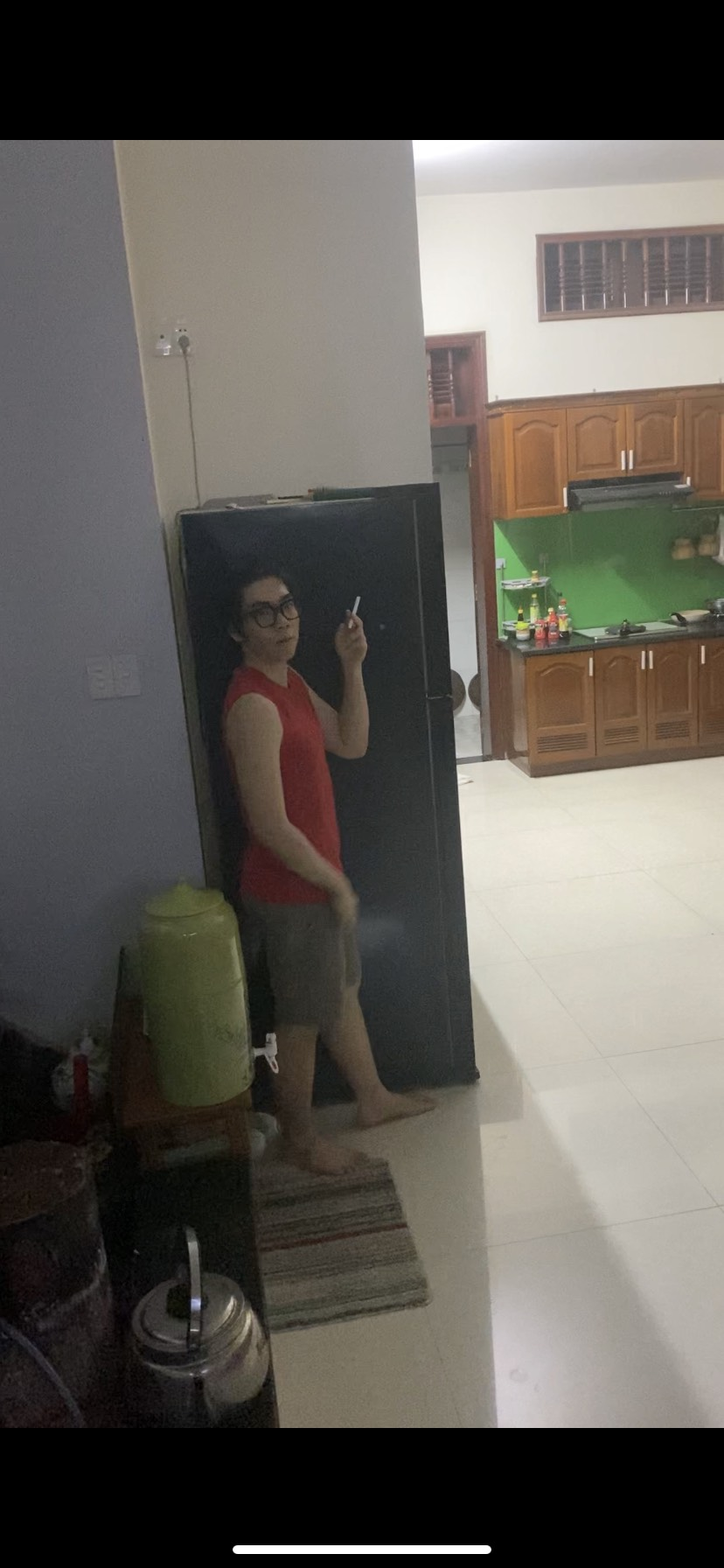cigarette: (351, 592, 365, 615)
person: (218, 528, 431, 1143)
